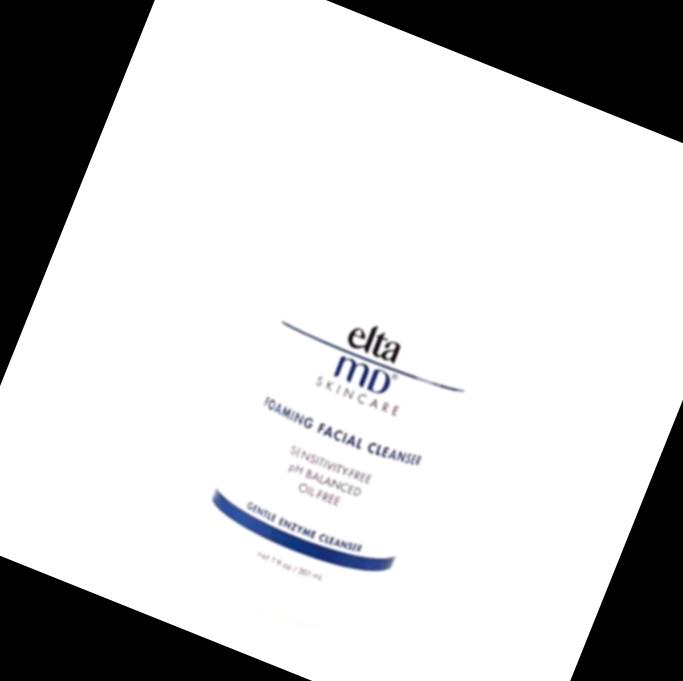cosmetic: (186, 81, 561, 644)
